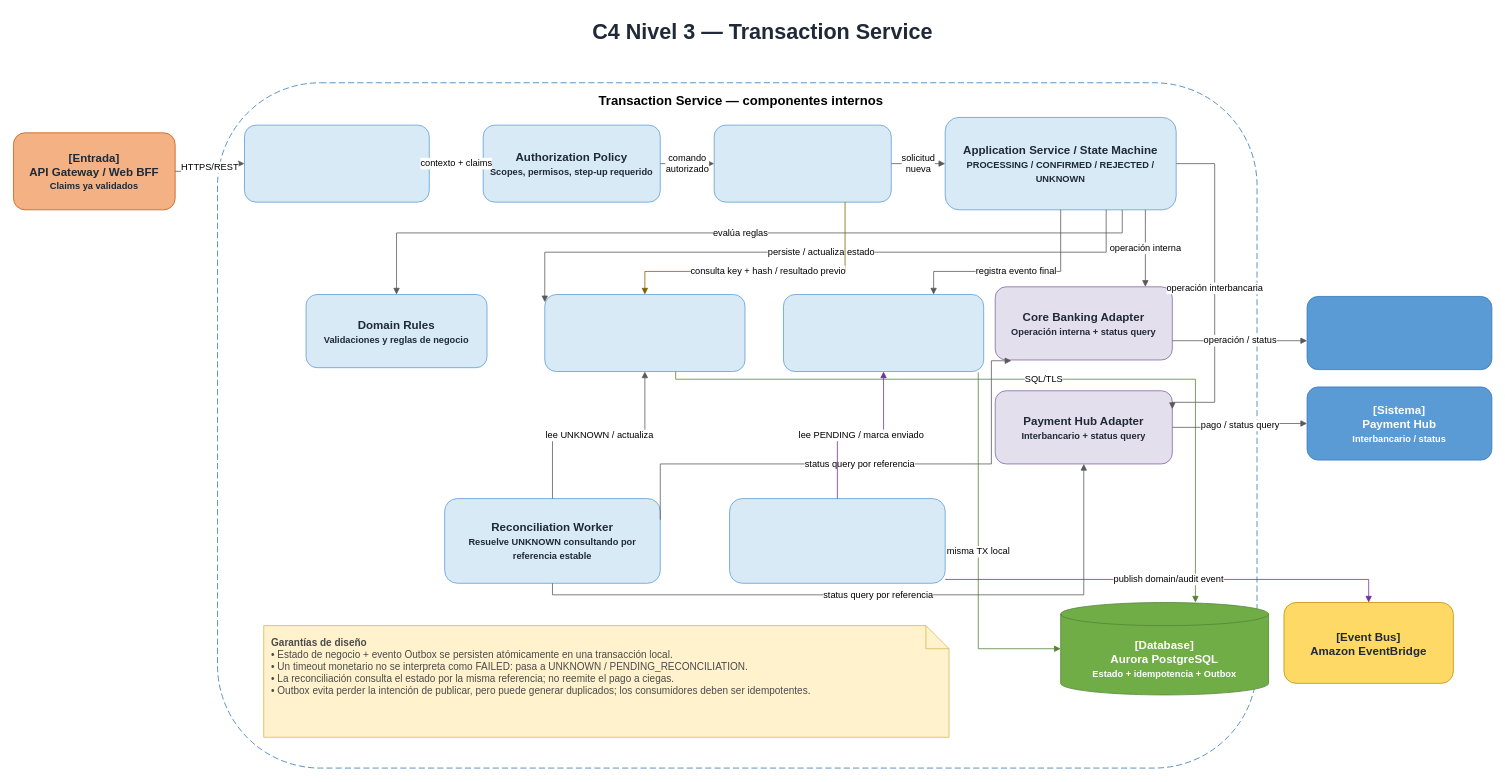
Image size: 1505x782. Some labels were removed from this diagram. The centre of each missing label's shape, as x and y in pixels:
"[Sistema] Core Bancario Operación / status" belongs at point (1399, 333).
"Idempotency Manager Idempotency key + payload hash" belongs at point (802, 163).
"Outbox Publisher Lee PENDING → publica → marca enviado" belongs at point (837, 540).
"Outbox Repository Persistencia de eventos en la misma TX local" belongs at point (883, 333).
"Transaction API / Controller Contrato HTTP, DTOs y contexto" belongs at point (336, 163).
"Transaction Repository Estado transaccional + registro de idempotencia" belongs at point (644, 333).
